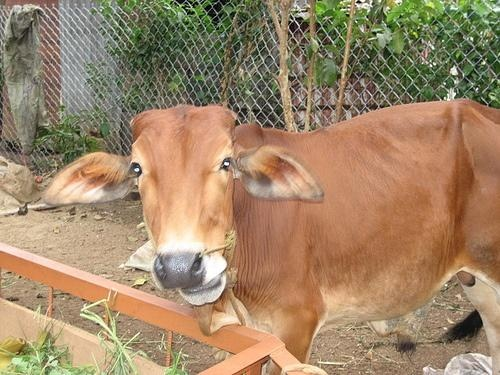cow: (43, 98, 500, 375)
